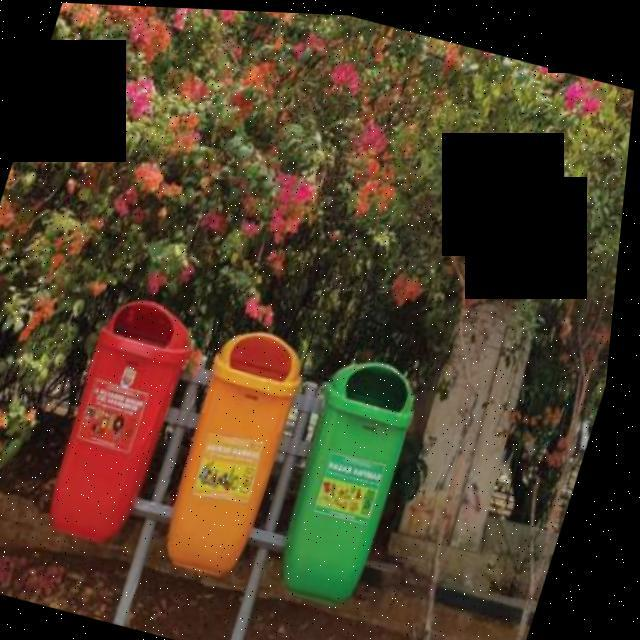bin: (261, 335, 441, 621), (35, 276, 211, 560), (150, 314, 323, 600)
